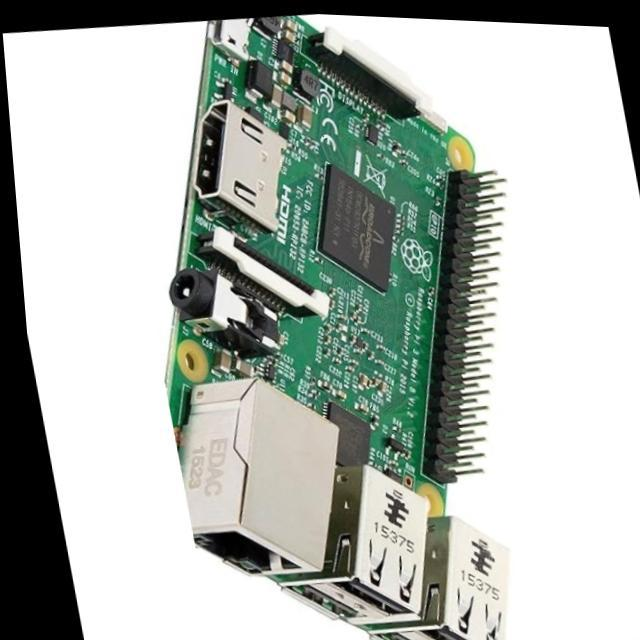Raspberry-Pi-3-B: (167, 17, 508, 640)
